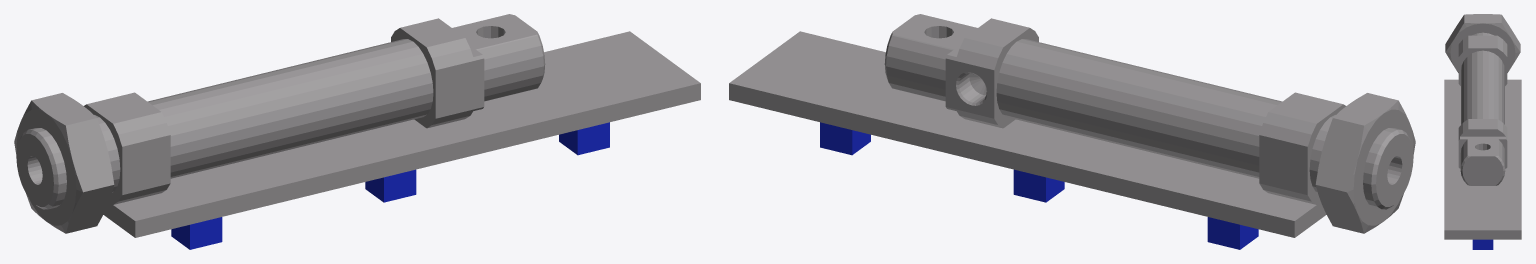
3 views of the same model, side by side, from view 1: azimuth 30°, elevation 25°; view 2: azimuth 150°, elevation 25°; view 3: azimuth 270°, elevation 25° (orthographic). The views are drawn at different scales.
Parts seen in each view (by area): view 1: CD85N20-50S-A(0 1 0)-cylinder; view 2: CD85N20-50S-A(0 1 0)-cylinder; view 3: CD85N20-50S-A(0 1 0)-cylinder.
Part boxes in pixels (x1,y1,x2,y2): CD85N20-50S-A(0 1 0)-cylinder: (14,14,700,249); CD85N20-50S-A(0 1 0)-cylinder: (729,14,1415,249); CD85N20-50S-A(0 1 0)-cylinder: (1444,14,1521,249).
Size of the model in its own units: 195 by 48 by 38.
